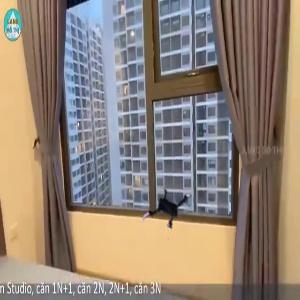drone: (139, 179, 202, 242)
